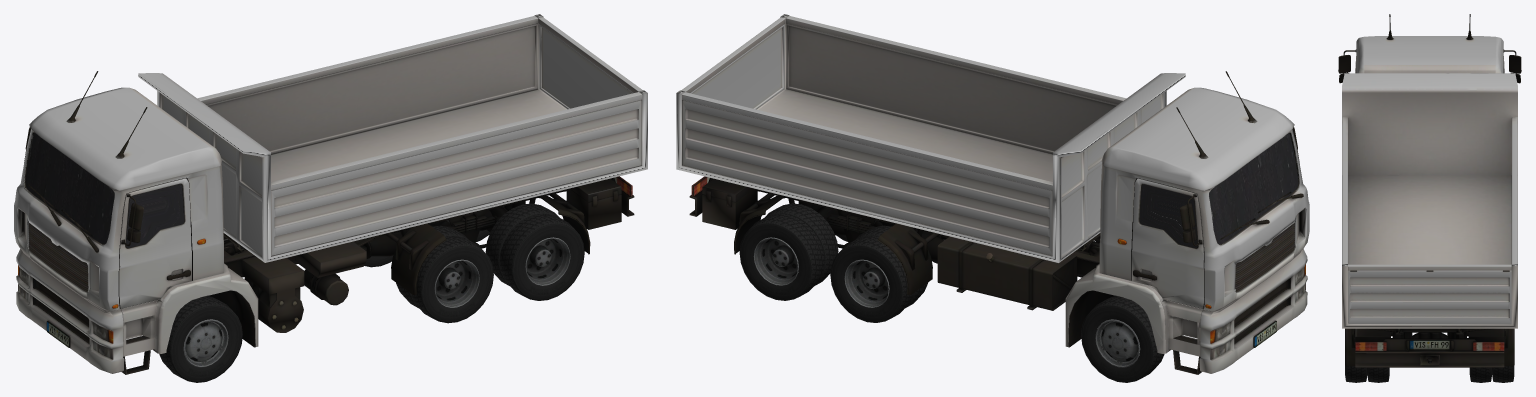
Rendered from truck-size-4-17.glb.
3 renders of one model, left to right at view 1: azimuth 30°, elevation 25°; view 2: azimuth 150°, elevation 25°; view 3: azimuth 270°, elevation 25°, orthographic. The views are drawn at different scales.
Parts seen in each view (by area): view 1: DrawCall_0988, DrawCall_1232, Object004, DrawCall_1226; view 2: DrawCall_0988, DrawCall_1232, Object004, DrawCall_1226; view 3: DrawCall_0988, DrawCall_1232.
Boxes of the visible parts, x1,y1,x2,y2 form: DrawCall_0988: (14, 14, 647, 374); DrawCall_1232: (159, 203, 584, 382); Object004: (25, 133, 184, 247); DrawCall_1226: (183, 237, 570, 367); DrawCall_0988: (676, 14, 1309, 374); DrawCall_1232: (739, 203, 1164, 382); Object004: (1139, 133, 1298, 247); DrawCall_1226: (753, 237, 1140, 367); DrawCall_0988: (1338, 14, 1521, 367); DrawCall_1232: (1345, 365, 1514, 382).
Bounding box in the file's own units: 5.82 × 2.74 × 2.1.
Materials: 5 (4 with a texture image).
